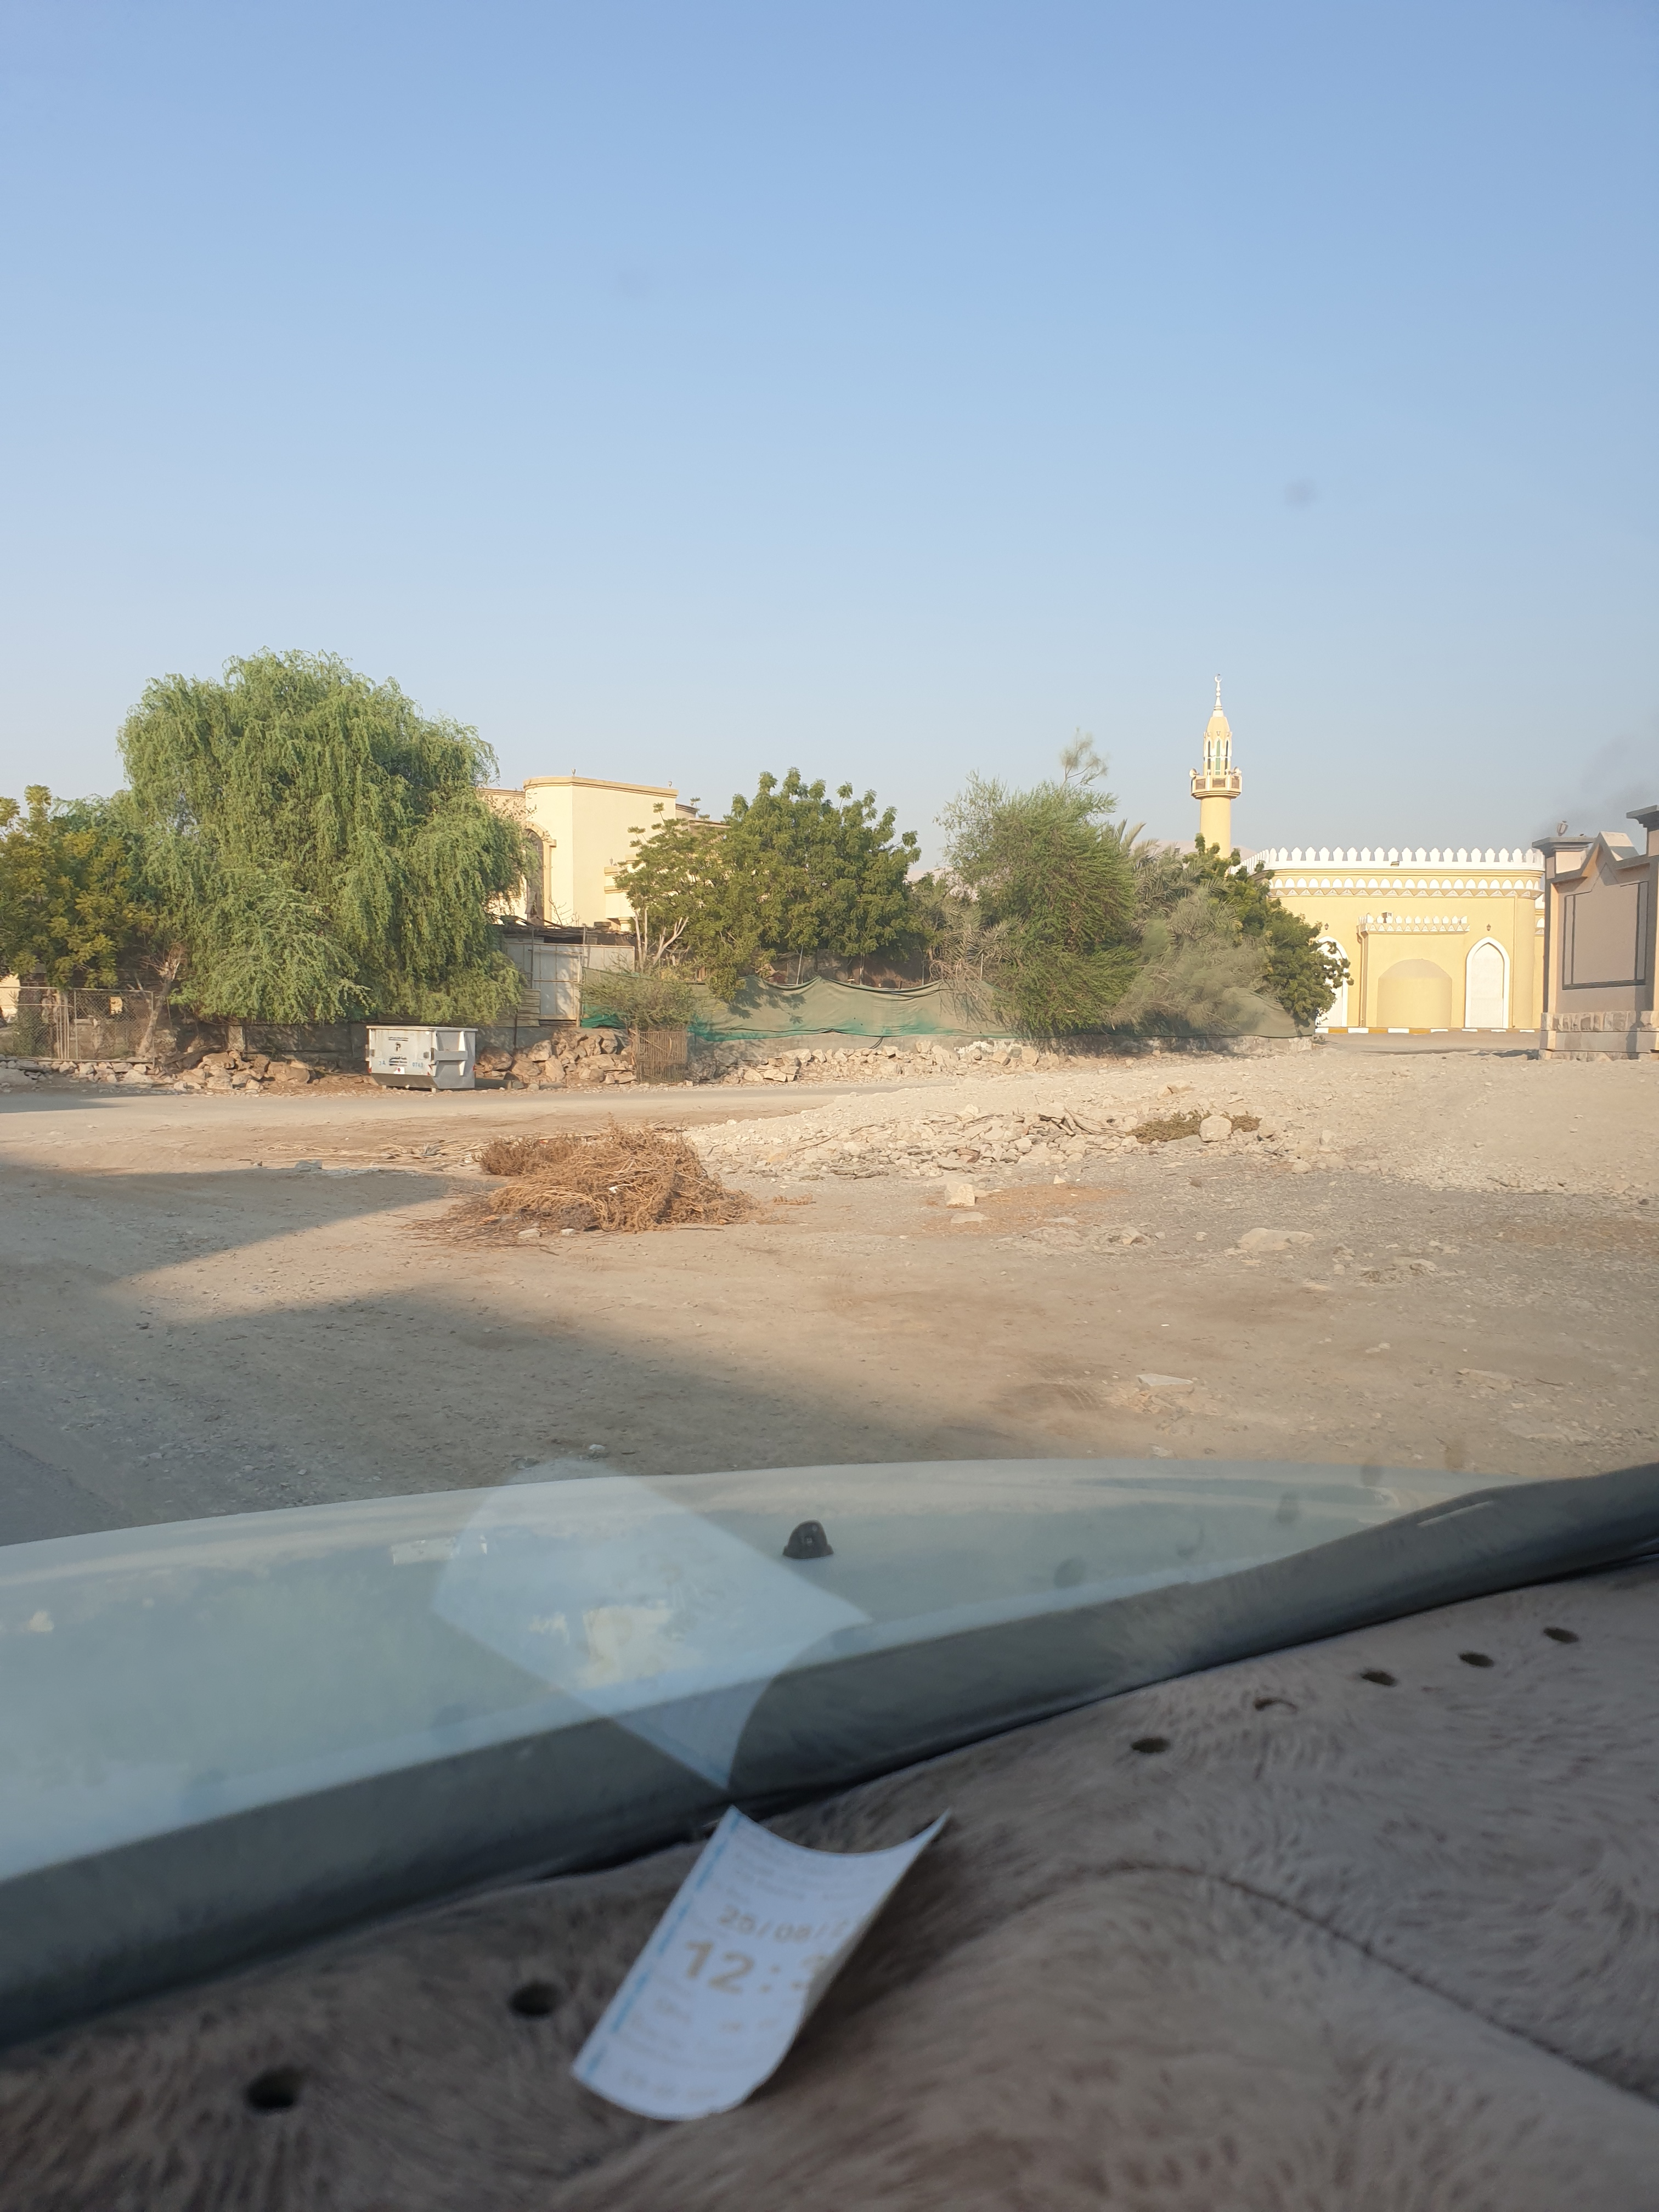fallen_trees: (439, 1129, 809, 1261), (427, 1176, 673, 1254), (350, 1198, 612, 1270), (559, 1160, 749, 1247), (702, 1170, 852, 1230)
